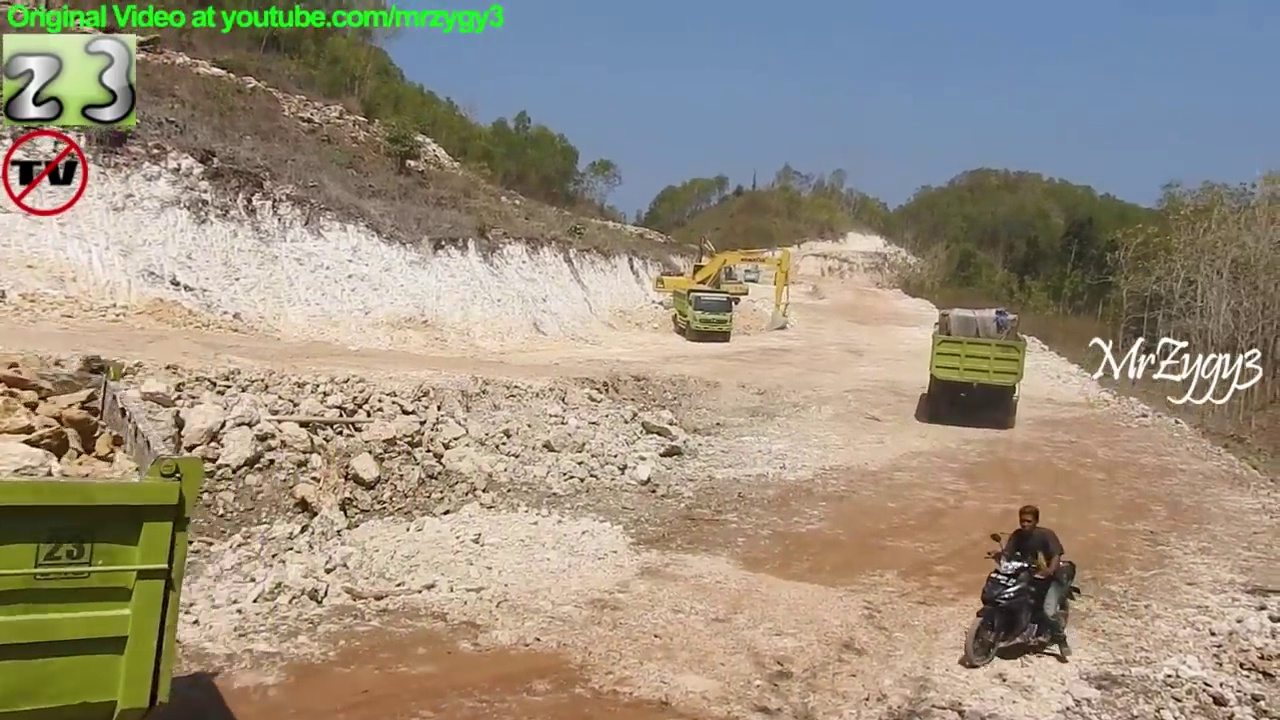excavator: (655, 247, 795, 334), (688, 236, 751, 306), (741, 252, 764, 286)
truck: (1, 441, 209, 720), (924, 303, 1029, 424), (668, 281, 743, 347)
